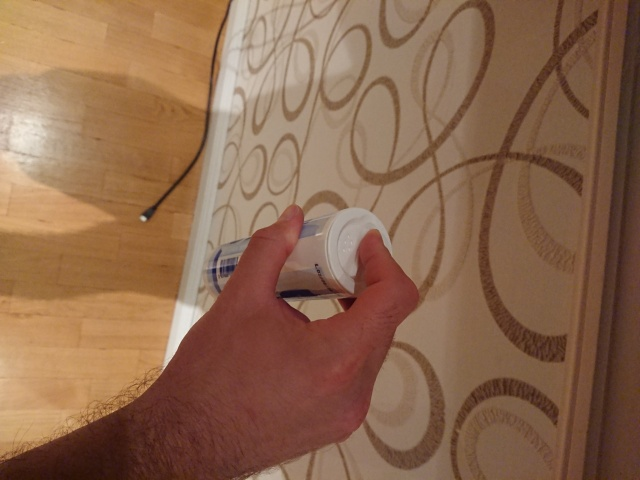Solana Pag Fine Sea Salt 250g: (199, 205, 396, 306)
